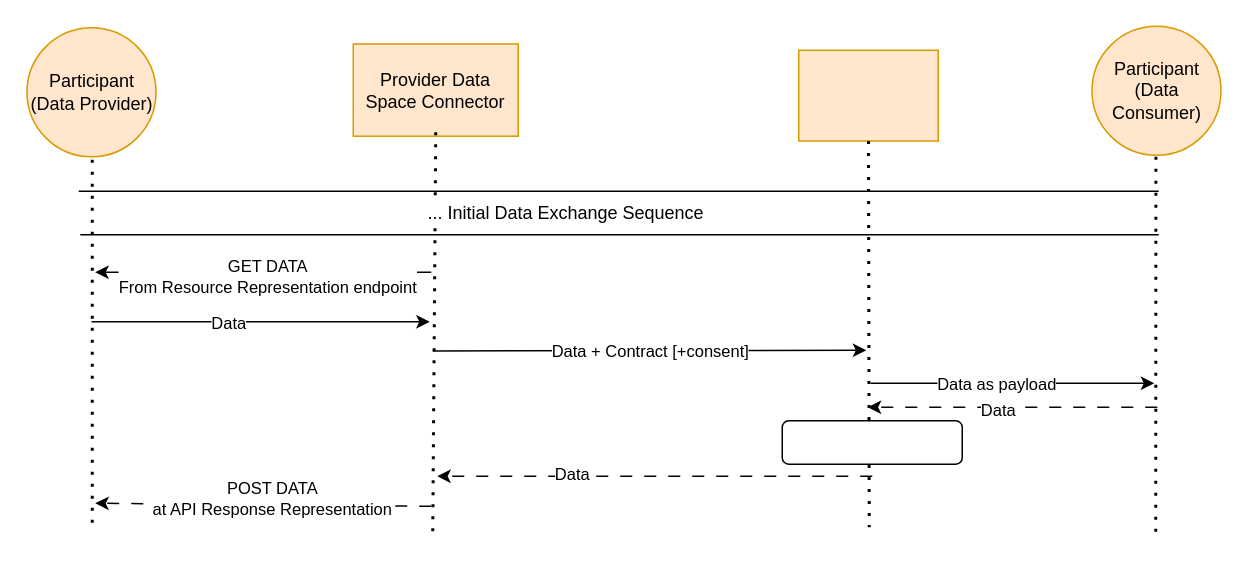
Image size: 1247x563. Some labels were removed from this diagram. Each missing label, with the centre of its shape:
"Data Consumer Connector" belongs at (x=867, y=95).
"Notice that resource is tagged as being an API" belongs at (x=871, y=441).
